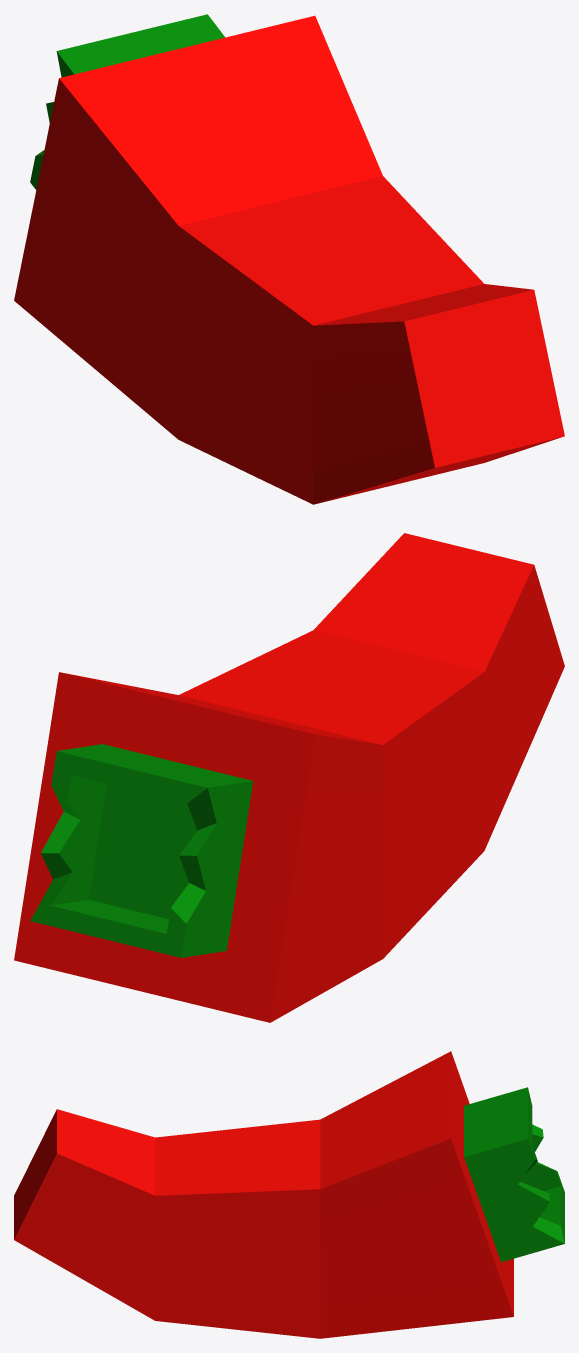
The model's file is chili_pepper.fbx.
3 views of the same model, one above another, from view 1: azimuth 30°, elevation 25°; view 2: azimuth 150°, elevation 25°; view 3: azimuth 270°, elevation 25° (orthographic). The views are drawn at different scales.
Visible parts, largest first — view 1: Cube; view 2: Cube; view 3: Cube.
Part boxes in pixels (x1,y1,x2,y2): Cube: (14, 14, 564, 504); Cube: (14, 533, 564, 1022); Cube: (14, 1051, 564, 1338).
Bounding box in the file's own units: 251 × 280 × 668.
